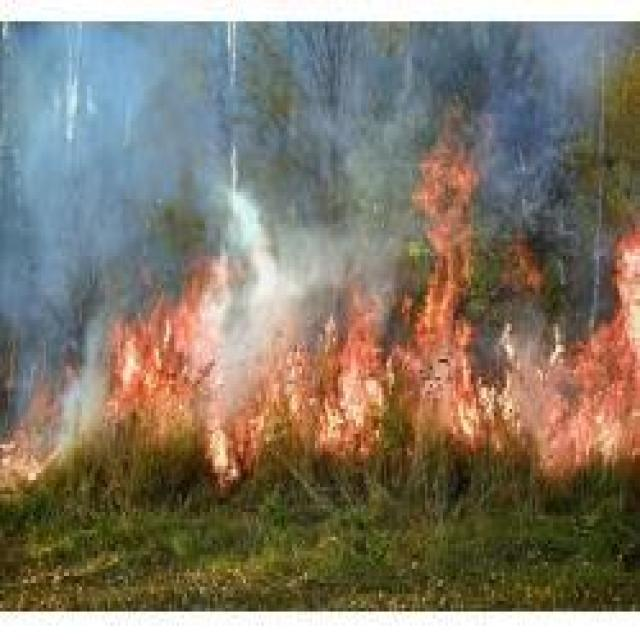fire: (108, 150, 635, 477), (0, 336, 93, 486)
smoke: (0, 24, 406, 274), (460, 24, 629, 252)
